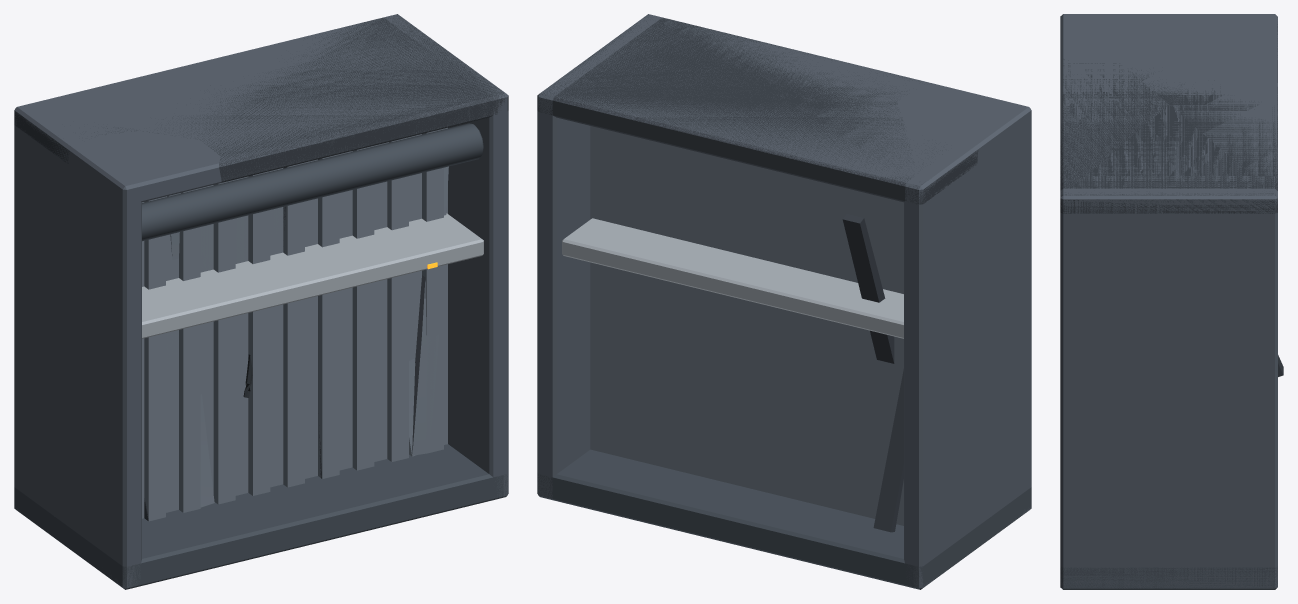
Rendered from shr_cmp_generic_wall_industrial_b.glb.
The picture shows the model from 3 angles, left to right: view 1: azimuth 30°, elevation 25°; view 2: azimuth 150°, elevation 25°; view 3: azimuth 270°, elevation 25°; orthographic projection. The views are drawn at different scales.
Visible parts, largest first — view 1: mesh_heavy, mesh_intact, mesh_light; view 2: mesh_heavy, mesh_light, mesh_intact; view 3: mesh_heavy, mesh_light, mesh_intact.
Boxes of the visible parts, <box> form: mesh_heavy: <box>14,14,508,589</box>; mesh_intact: <box>14,39,506,586</box>; mesh_light: <box>14,15,507,589</box>; mesh_heavy: <box>537,14,1031,589</box>; mesh_light: <box>538,19,1031,589</box>; mesh_intact: <box>537,18,1031,565</box>; mesh_heavy: <box>1060,16,1283,589</box>; mesh_light: <box>1063,14,1277,589</box>; mesh_intact: <box>1060,14,1276,199</box>.
Size of the model in its own units: 1.2 by 1.2 by 0.6158.
